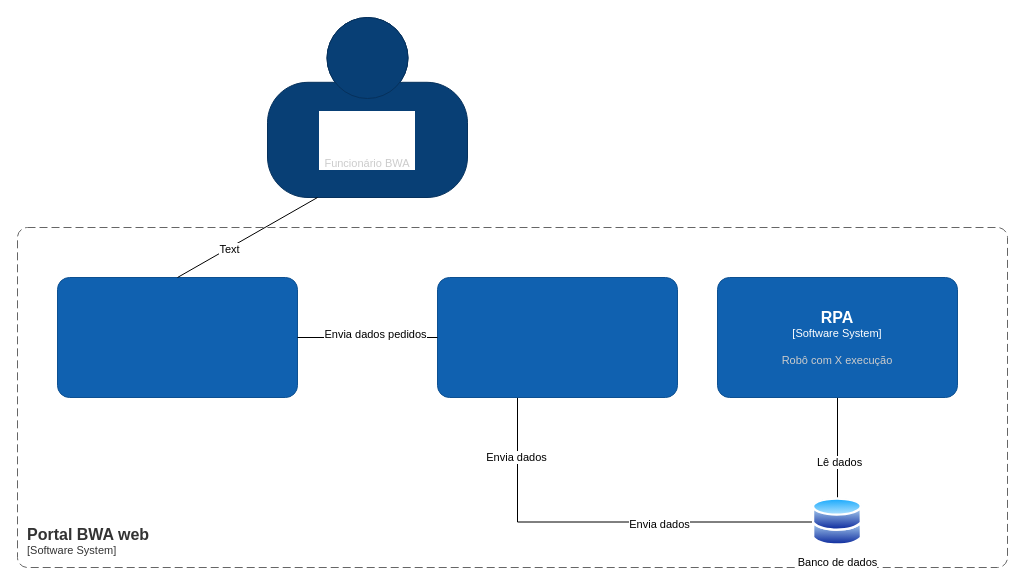
This 1025x587 diagram has some shape labels left out. Here are the shapes that lost their labels. From the top down, the centre of each, then its label:
At [177,337]: "Portal BWA [Software System] Sistema WEB".
At [557,337]: "API [Software System] Comunicação do sistema e banco".
